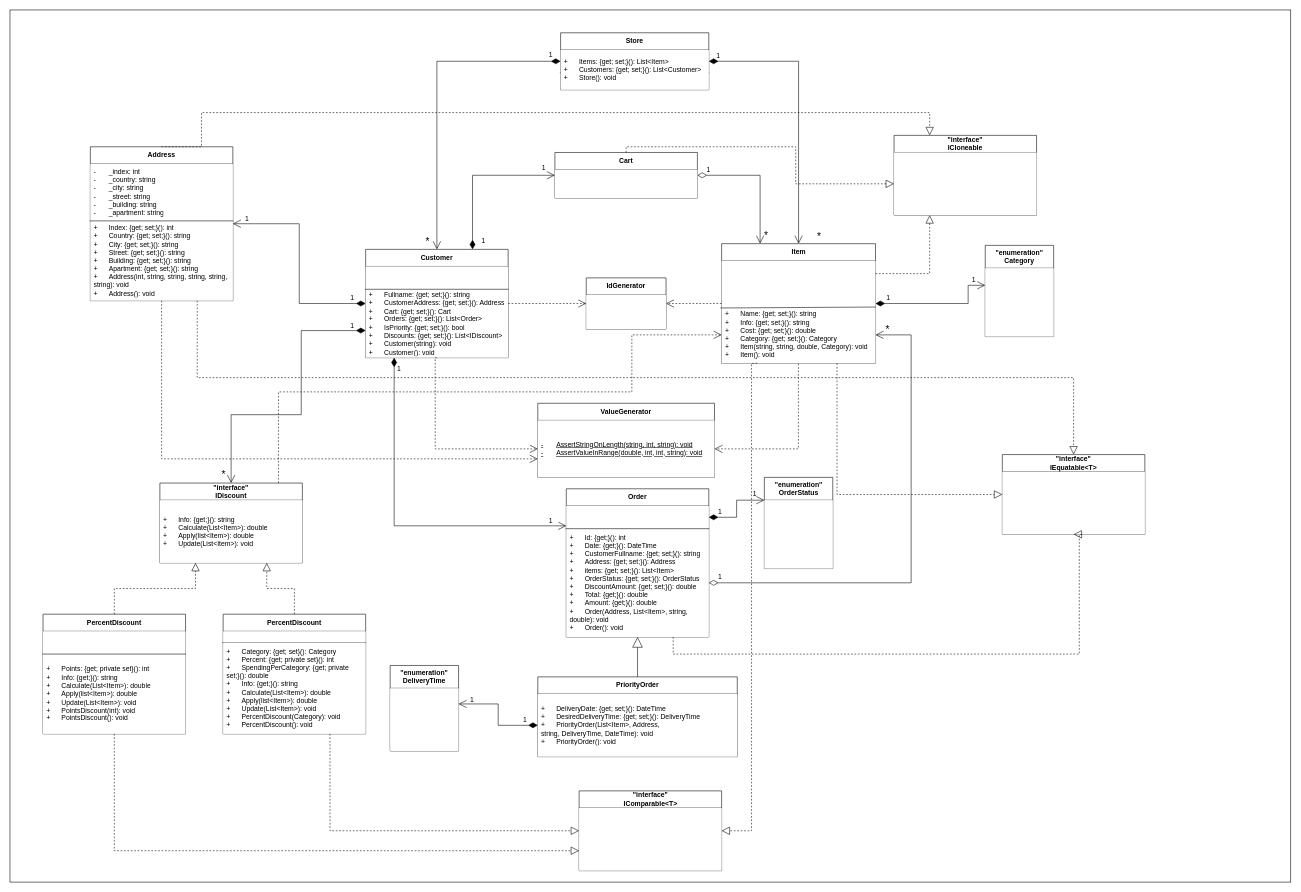
Some shapes in this 1301 by 892 pixel diagram are drawn without their labels. The shapes that lost their labels are listed below. From the top down, each one's centre as x and y in pixels, then its label:
the point at 626,183: + Items: {get; set;}(): List<Item> + Amount: {get;}(): double + Cart(): void
the point at 965,183: + Clone(): object
the point at 436,277: - _id: readonly int - _fullname: string
the point at 798,283: - _id: readonly int - _name: string - _info: string - _cost: double
the point at 626,303: - _nextId: int
the point at 626,320: - GetNextId(): int
the point at 1019,302: Medicine Clothing Products Technique Chancellery Books Groceries
the point at 637,517: - _id: int - _data: DateTime
the point at 1073,502: + Equals(T): bool + Equals(object): override bool
the point at 798,534: New Processing Assembly Sent Delivered Returned Abandoned
the point at 114,642: - _points: int - _maxDiscountPercentage: const int
the point at 294,636: - _percent: int
the point at 424,719: Morning Lunch Afternoon Evening LateEvening Night
the point at 650,839: + CompareTo( T ): int
